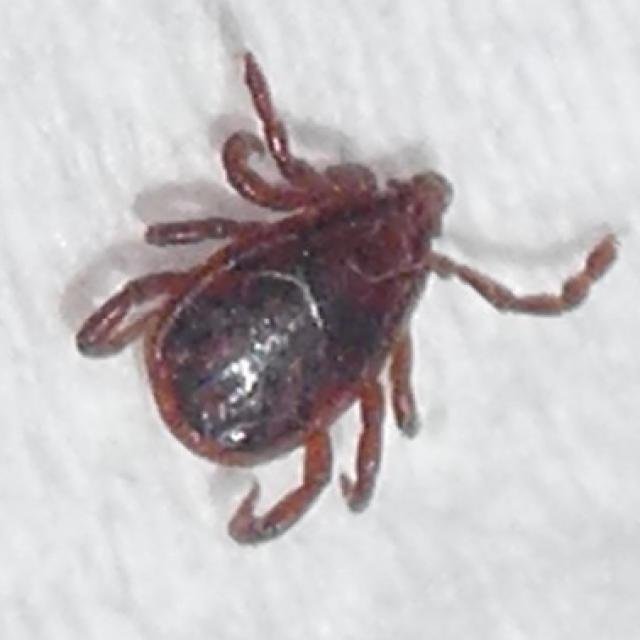Rhipicephalus Sanguineus-M: (73, 49, 618, 544)
